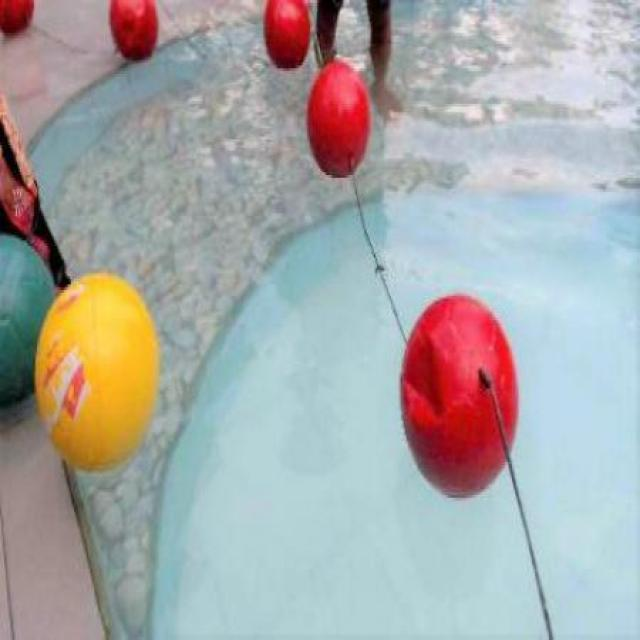buoy: (398, 290, 519, 498), (33, 274, 158, 470), (0, 232, 57, 410), (306, 58, 371, 177), (261, 1, 311, 70), (106, 0, 157, 60)
